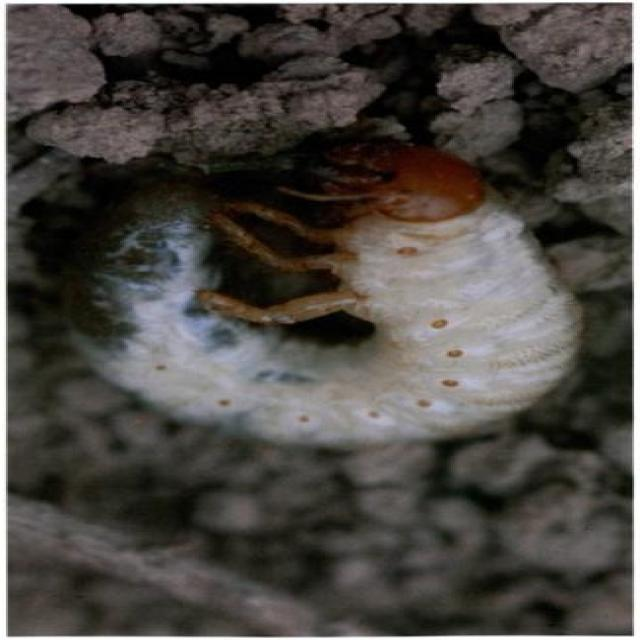grub: (94, 154, 590, 456)
